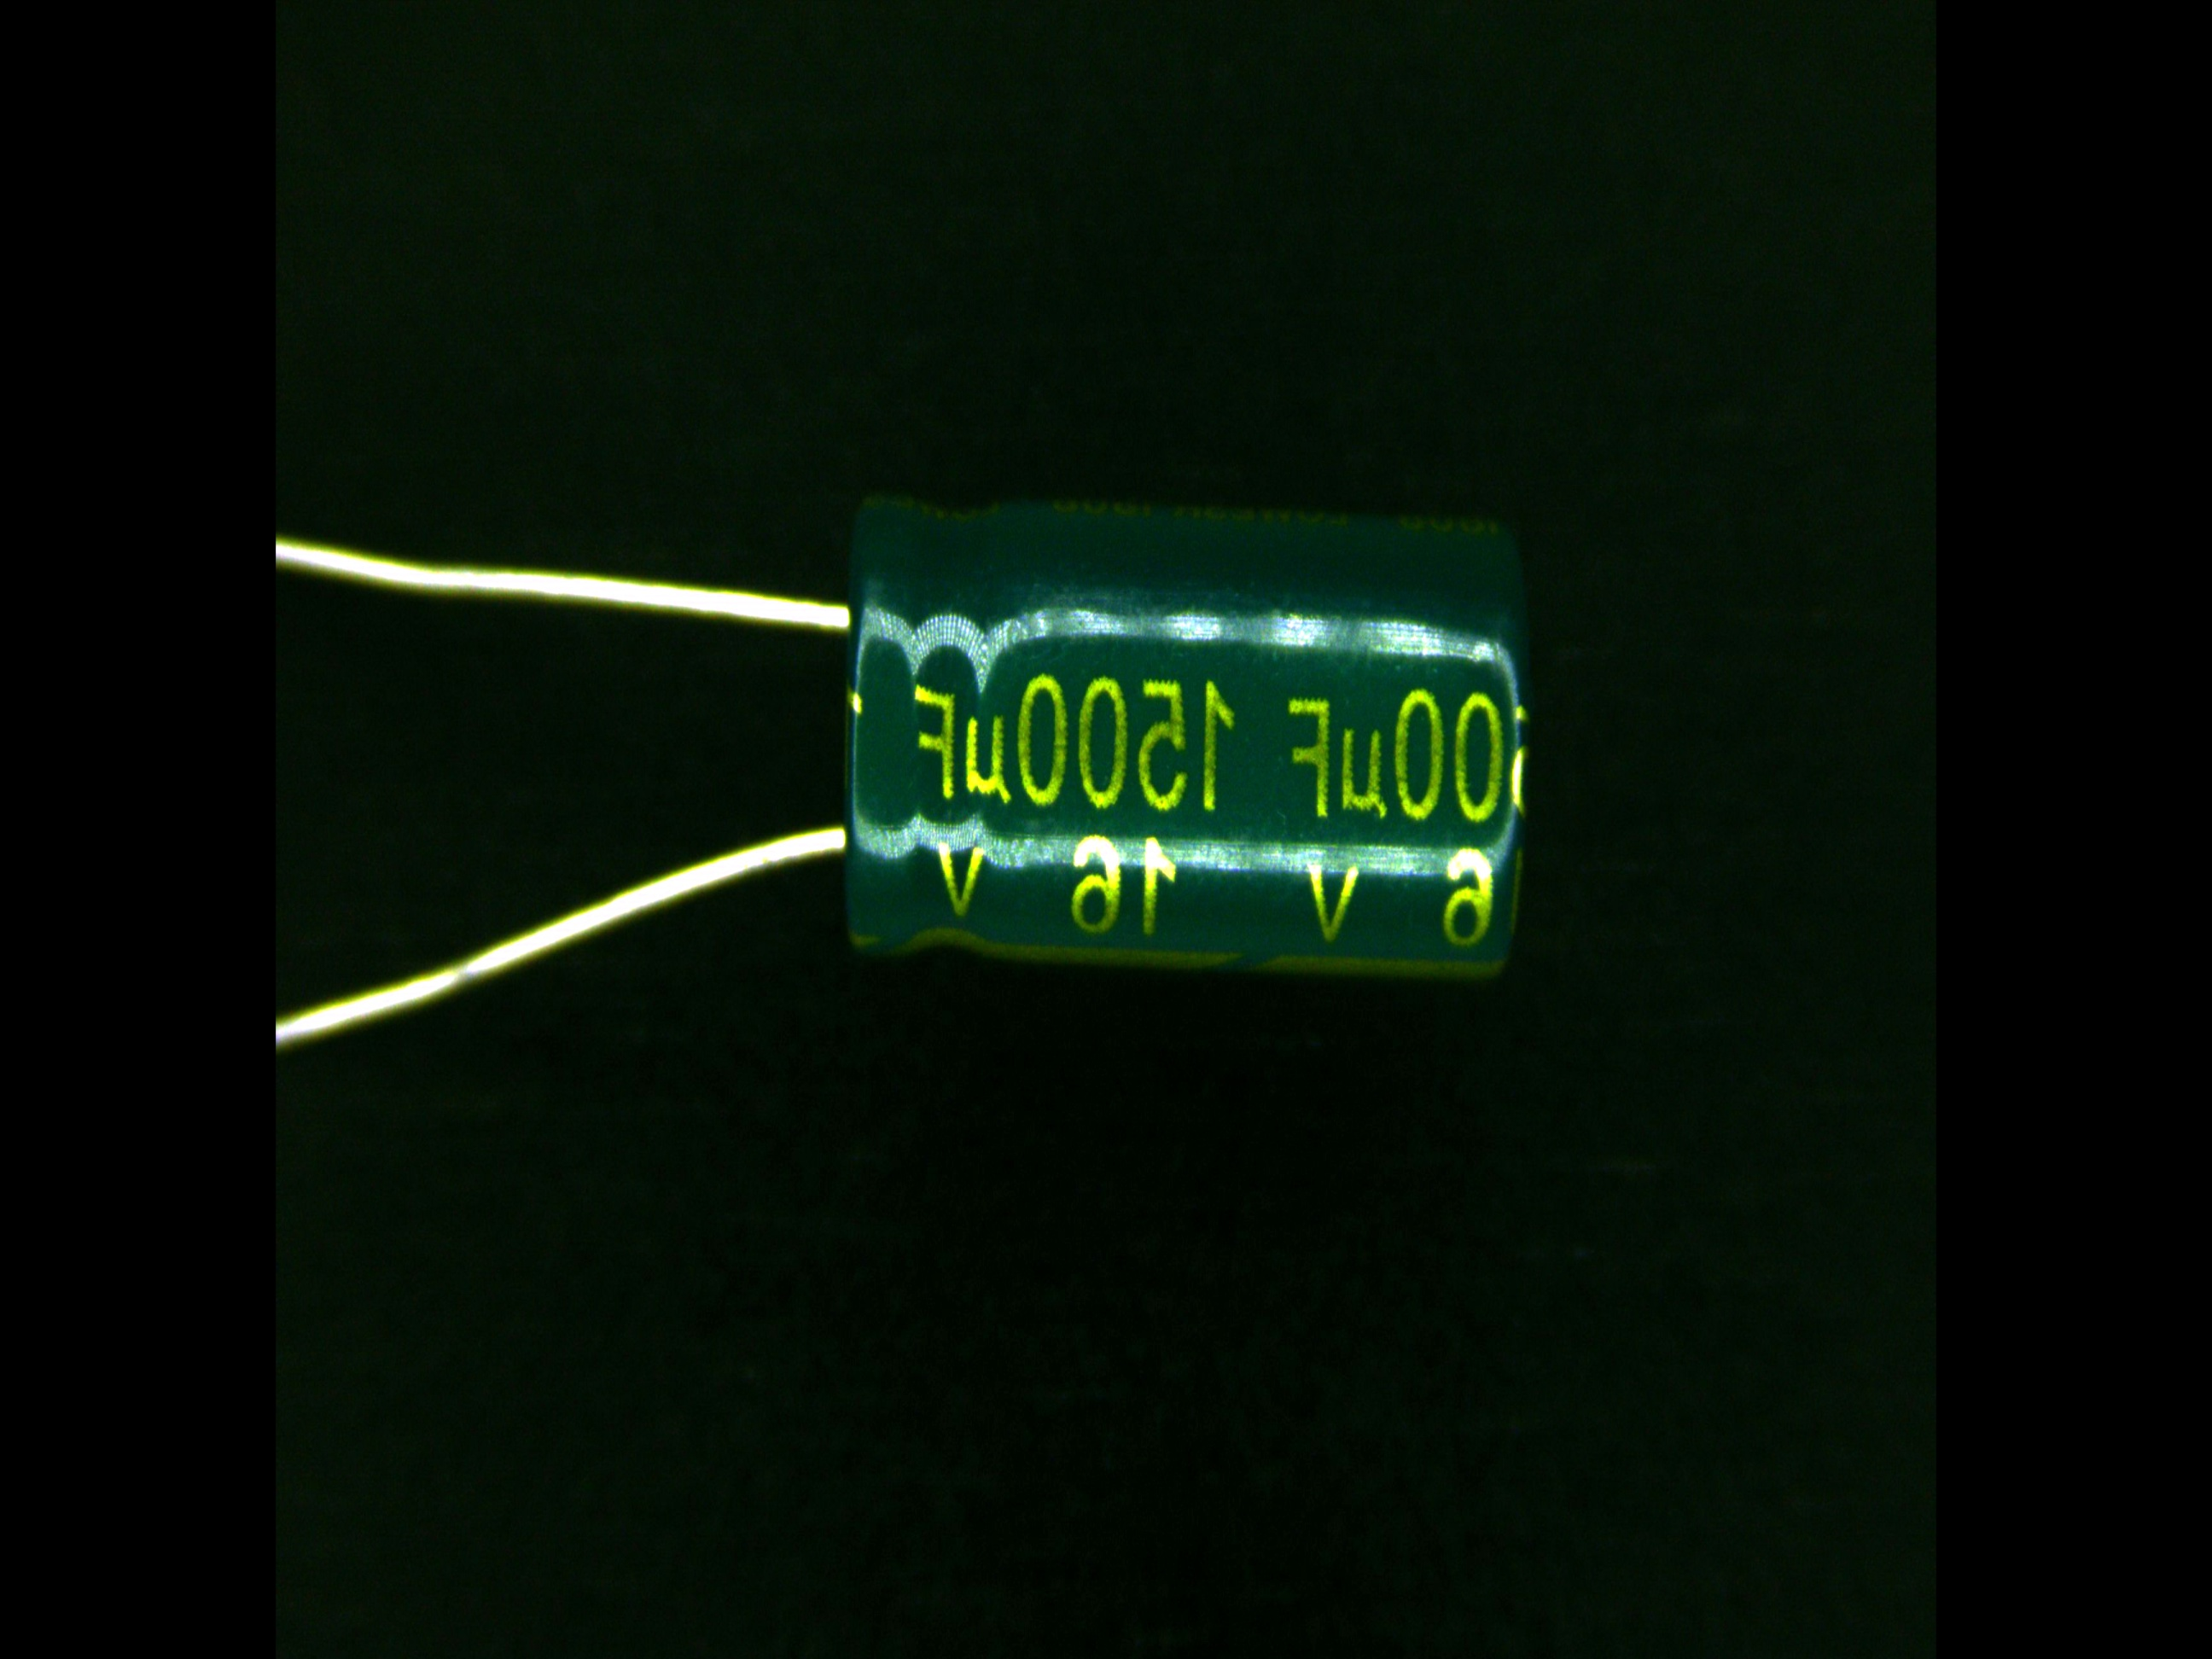c1: (695, 497, 1533, 972)
